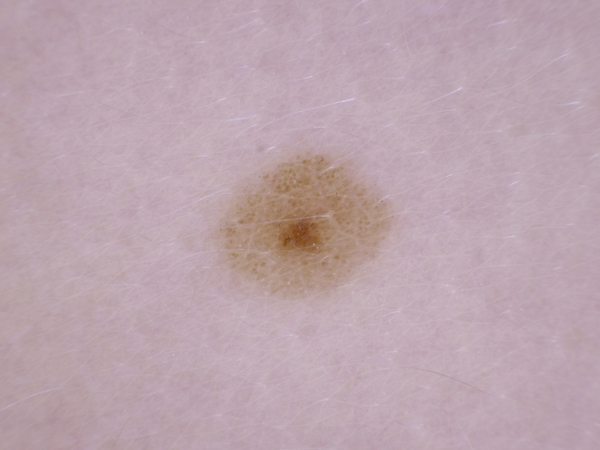Detected Lesion: (216, 150, 396, 302)
